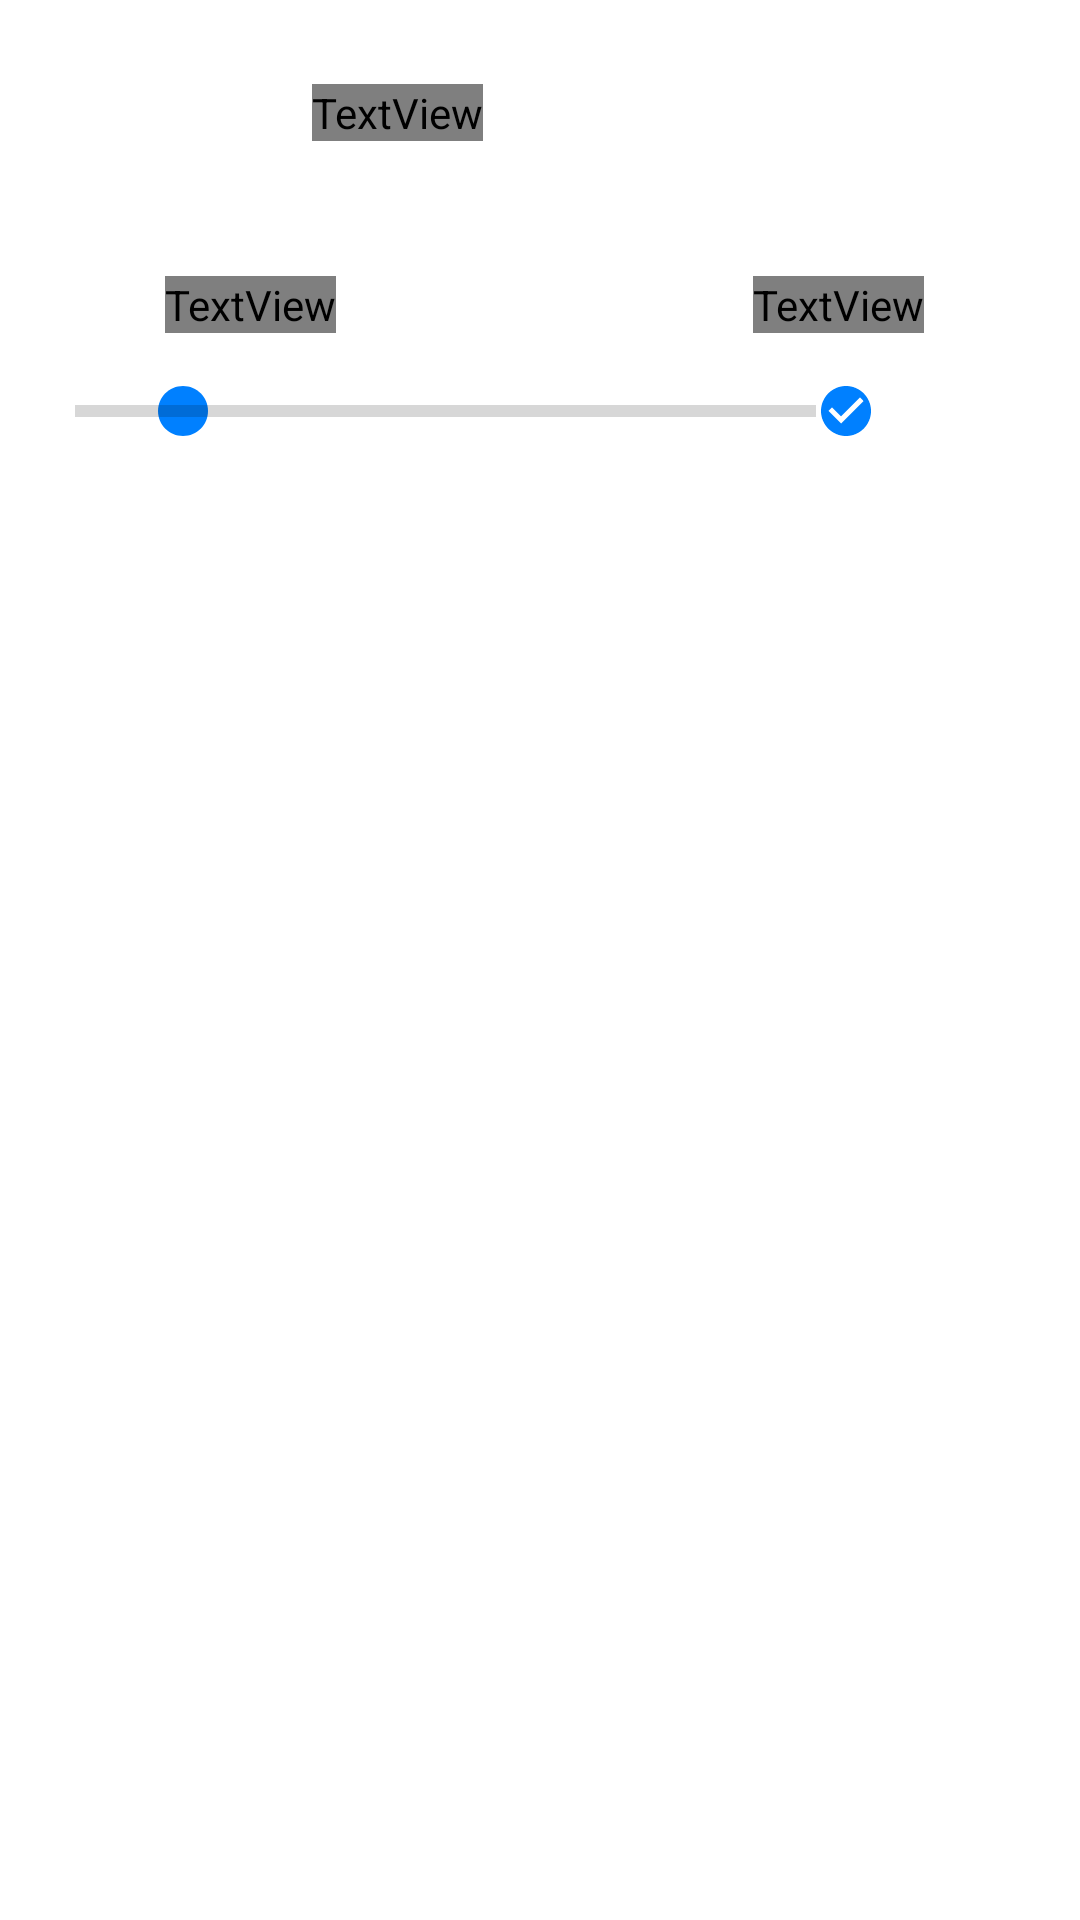

Point at icon controls on the screen. Image size 1080*1920, points as (x,y).
check circle: (846,411)
